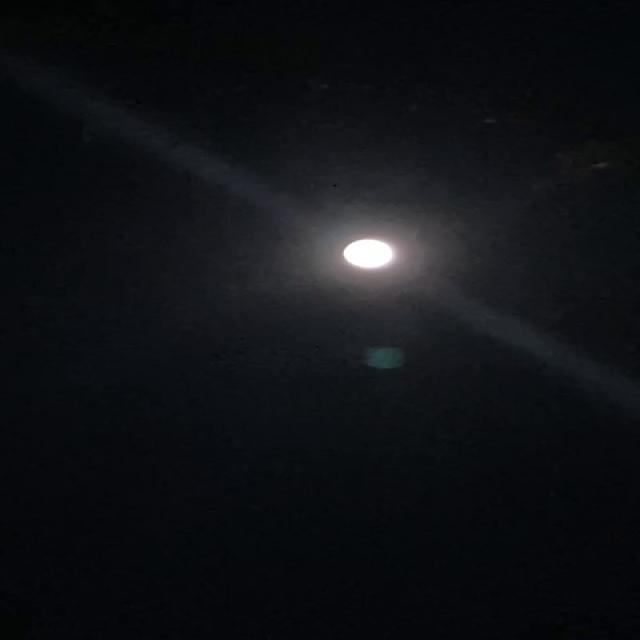moon: (343, 229, 414, 284)
